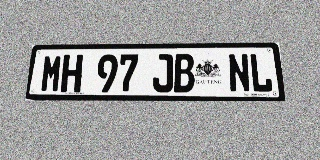7: (117, 54, 139, 92)
9: (96, 54, 118, 92)
B: (174, 54, 195, 92)
H: (60, 55, 83, 92)
J: (152, 54, 173, 92)
L: (249, 53, 273, 92)
M: (40, 55, 63, 92)
N: (227, 53, 251, 92)
